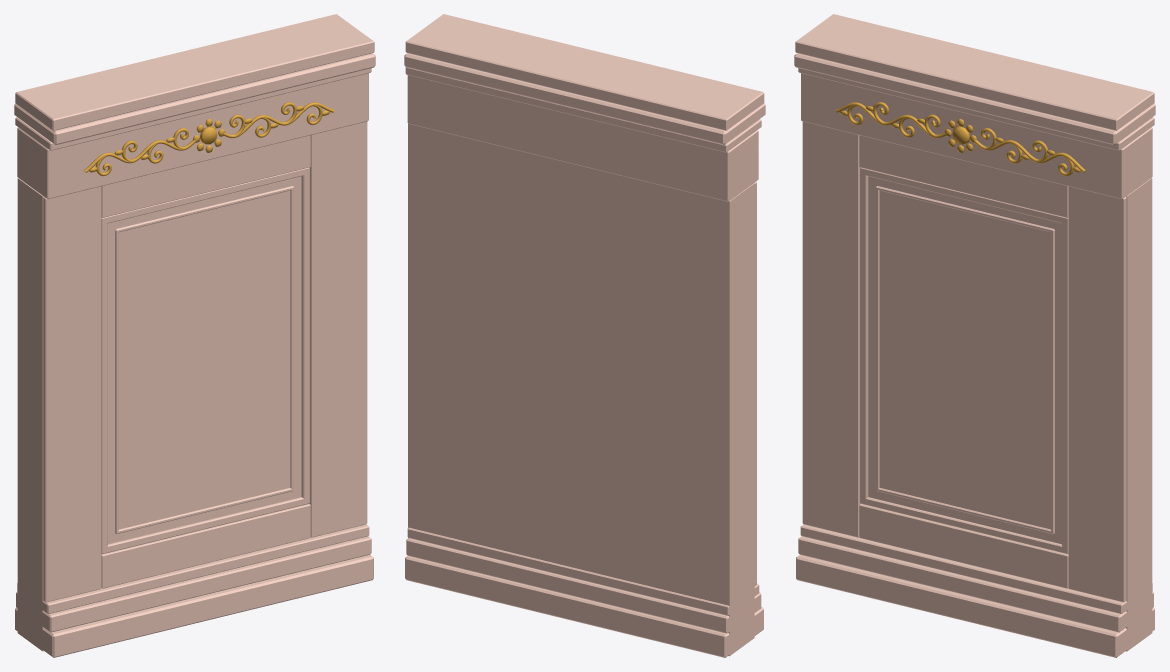
Rendered from Rempart_Travee.fbx.
3 renders of one model, left to right at view 1: azimuth 30°, elevation 25°; view 2: azimuth 150°, elevation 25°; view 3: azimuth 330°, elevation 25°, orthographic.
Parts seen in each view (by area): view 1: Travee_Pierre, Travee_Or; view 2: Travee_Pierre; view 3: Travee_Pierre, Travee_Or.
Part boxes in pixels (x1,y1,x2,y2): Travee_Pierre: (14,14,375,657); Travee_Or: (84,102,334,176); Travee_Pierre: (404,14,765,657); Travee_Pierre: (794,14,1155,657); Travee_Or: (835,102,1085,176).
Size of the model in its own units: 20 by 32 by 4.5.
